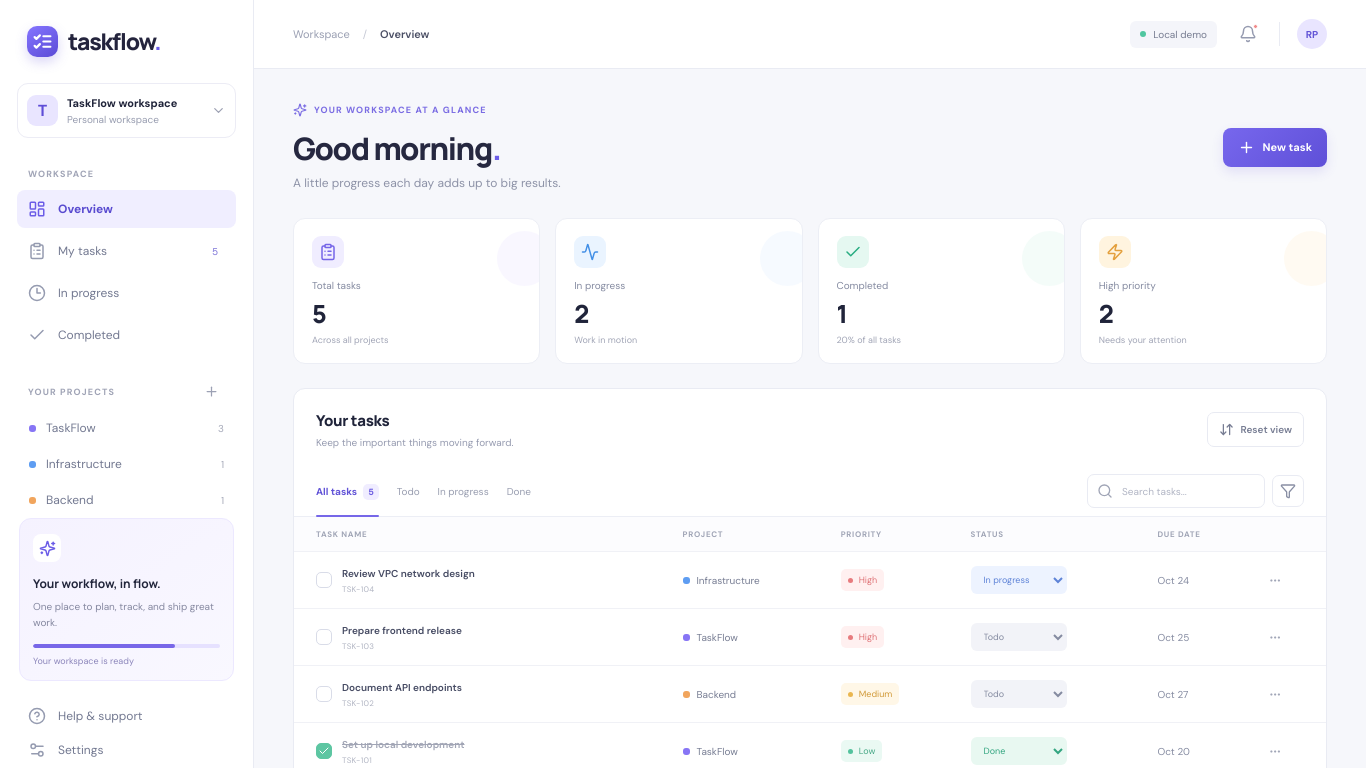
TaskFlow application › searches for tasks
Type "nonexistent-task-xyz" into the field labelled "Search tasks". click: (1188, 491)
box: [1120,484,1255,498]
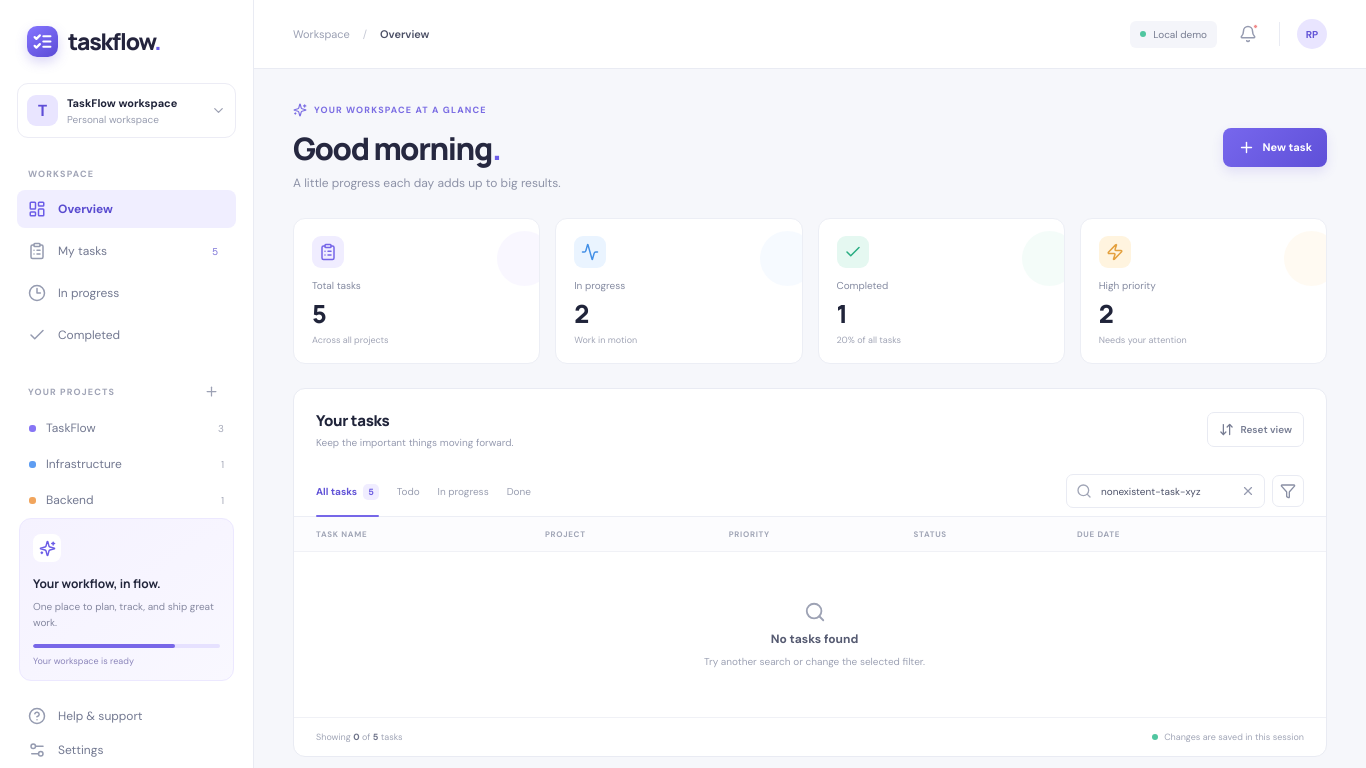
Check: the text "No tasks found" is shown, box [771,631,858,647]
